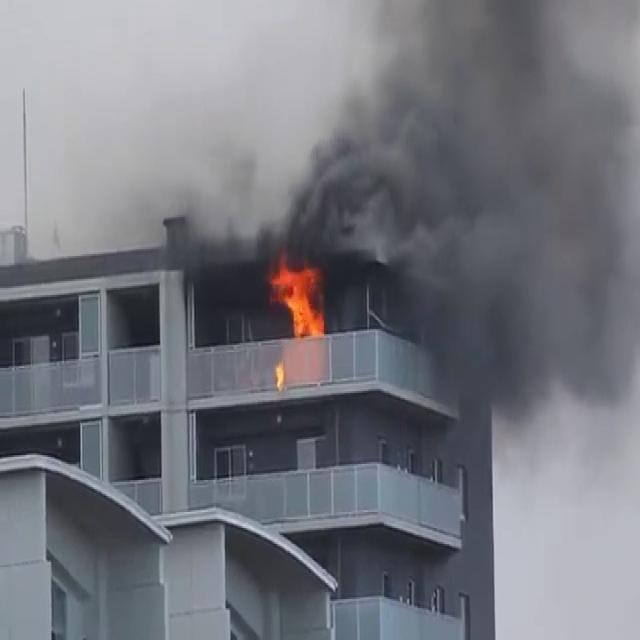Fire: (264, 254, 330, 340)
Smoke: (149, 0, 640, 325)
